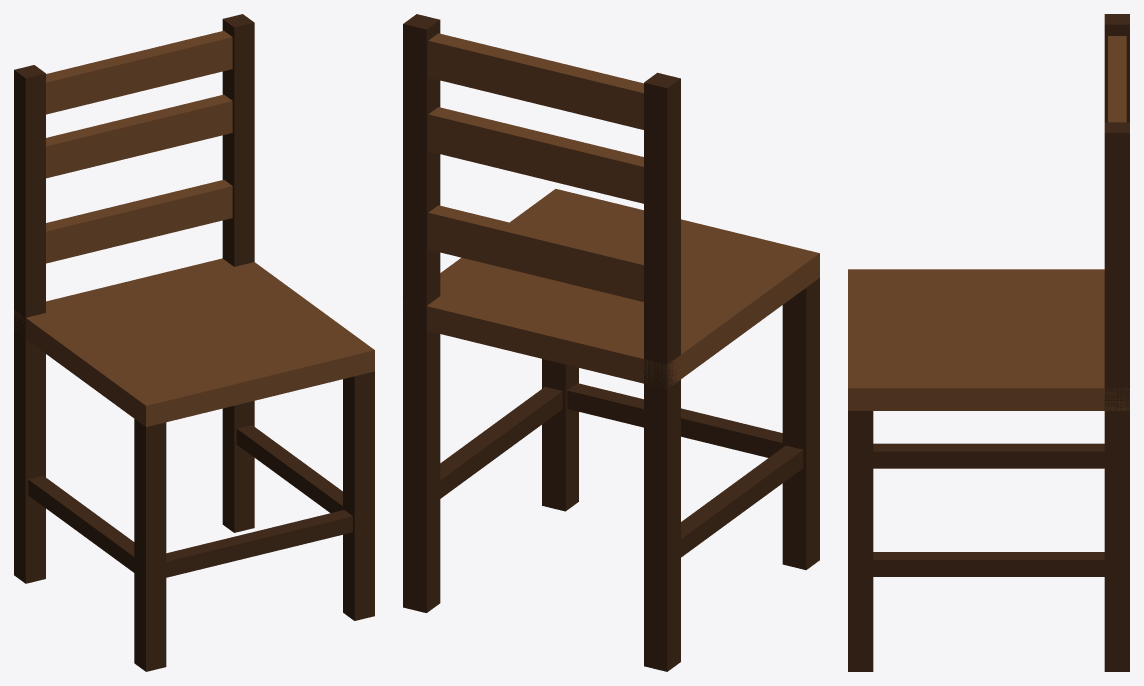
The model's file is SM_Saloon_Chair.obj.
3 renders of one model, left to right at view 1: azimuth 30°, elevation 25°; view 2: azimuth 150°, elevation 25°; view 3: azimuth 270°, elevation 25°, orthographic. The views are drawn at different scales.
Visible parts, largest first — view 1: SM_Saloon_Chair; view 2: SM_Saloon_Chair; view 3: SM_Saloon_Chair.
Part boxes in pixels (box(x1,y1,x2,y2)): SM_Saloon_Chair: box(14, 14, 374, 671); SM_Saloon_Chair: box(403, 14, 819, 671); SM_Saloon_Chair: box(848, 14, 1129, 671).
Size of the model in its own units: 0.45 by 0.95 by 0.45.
